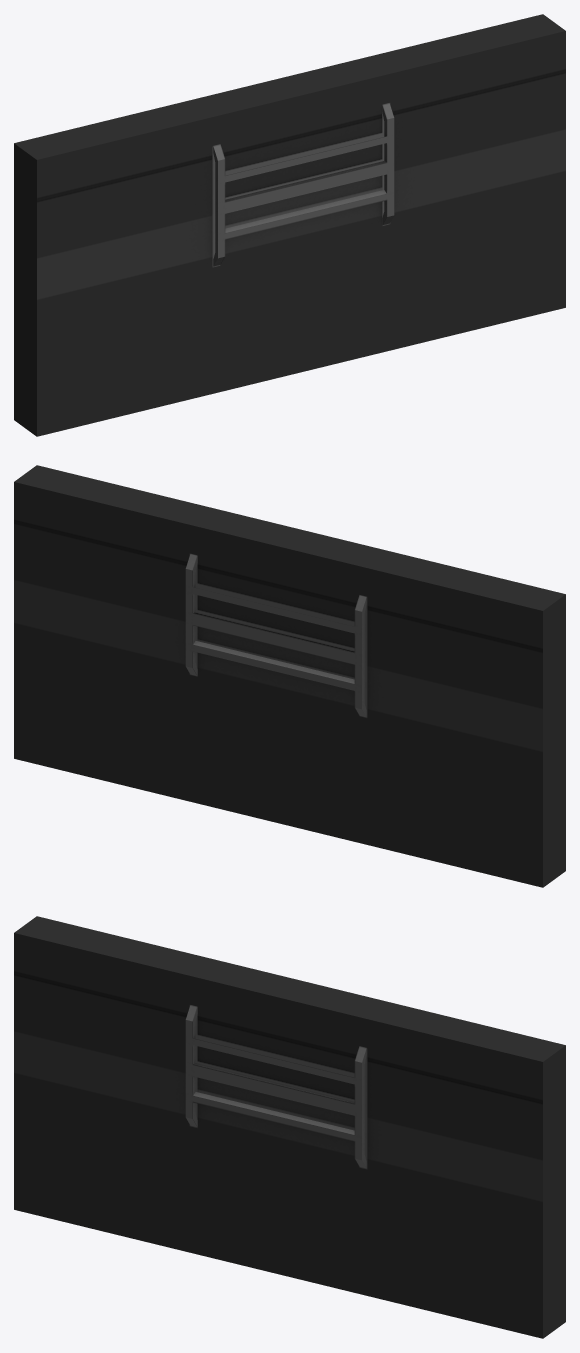
File: Wall_07.fbx
3 renders of one model, top to bottom at view 1: azimuth 30°, elevation 25°; view 2: azimuth 150°, elevation 25°; view 3: azimuth 330°, elevation 25°, orthographic.
Parts seen in each view (by area): view 1: Wall_07 Low Poly; view 2: Wall_07 Low Poly; view 3: Wall_07 Low Poly.
Part boxes in pixels (x1,y1,x2,y2): Wall_07 Low Poly: (14, 14, 565, 436); Wall_07 Low Poly: (14, 465, 565, 887); Wall_07 Low Poly: (14, 916, 565, 1338).
Size of the model in its own units: 400 by 200 by 42.15.
1 material, 1 textured.
